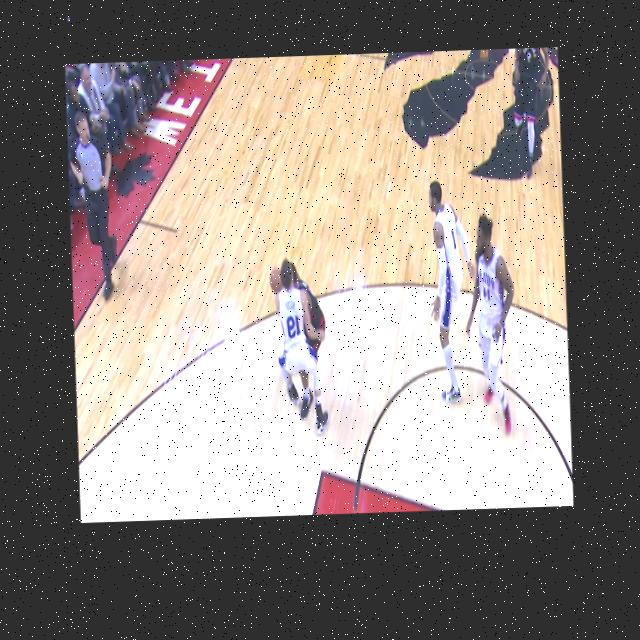Foul: (265, 252, 336, 418)
